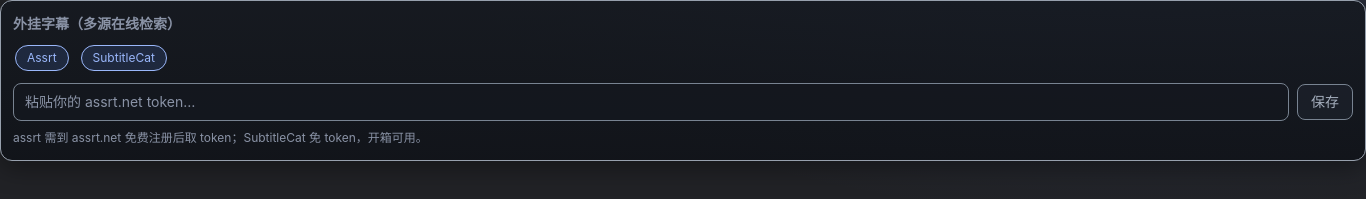
Test: account settings presenters › saves subtitle provider changes and reports failed token saves
Step 1. Click the button "SubtitleCat" → click(124, 58), box [81,45,167,71]
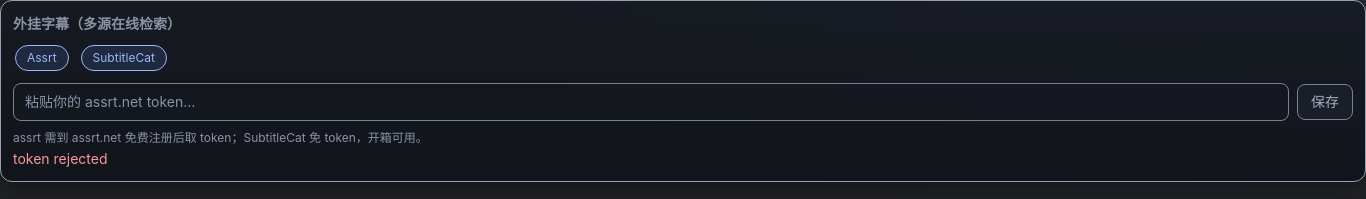
Step 2. Type "secret-token" into the password field named "字幕服务 Token" → (651, 102), box [13,83,1289,121]
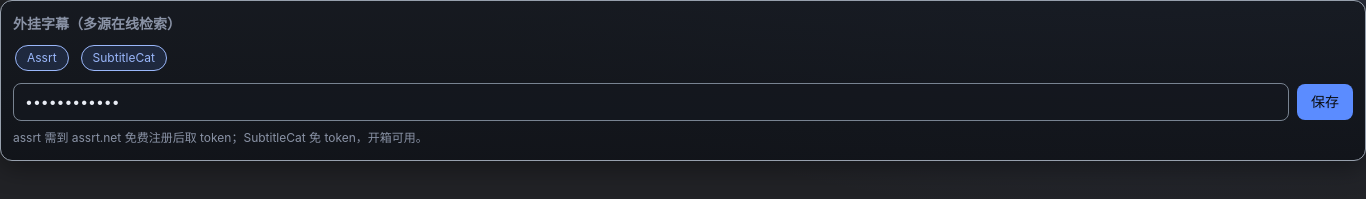
Step 3. Click the button "保存" → click(1325, 102), box [1297,84,1353,120]
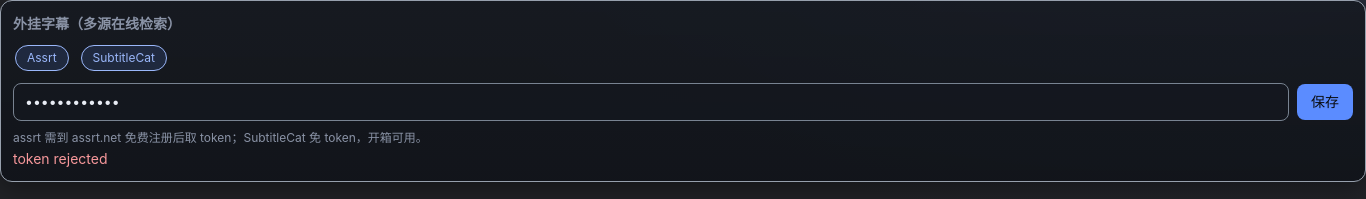
Now the message reads "token rejected", box [13,150,108,167]
